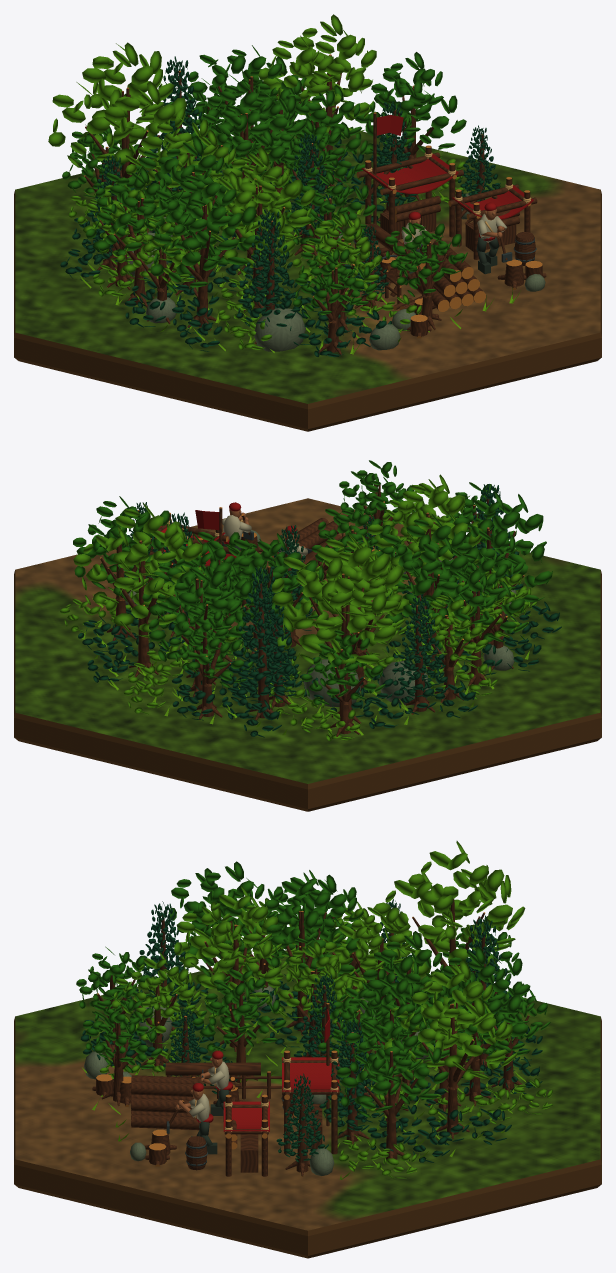
Rendered from forest-camp-lod2.fbx.
3 renders of one model, top to bottom at view 1: azimuth 30°, elevation 25°; view 2: azimuth 150°, elevation 25°; view 3: azimuth 270°, elevation 25°, orthographic.
Visible parts, largest first — view 1: LOD2_树林, LOD2_地块, LOD2_地被, LOD2_营地, LOD2_营地_玩家色, LOD2_人物; view 2: LOD2_地块, LOD2_树林, LOD2_地被, LOD2_营地, LOD2_人物, LOD2_营地_玩家色; view 3: LOD2_地块, LOD2_树林, LOD2_地被, LOD2_营地, LOD2_营地_玩家色, LOD2_人物.
Boxes of the visible parts, left/top/right/bottom form: LOD2_树林: left=48, top=14, right=500, bottom=355; LOD2_地块: left=14, top=119, right=601, bottom=431; LOD2_地被: left=60, top=138, right=545, bottom=357; LOD2_营地: left=338, top=112, right=546, bottom=338; LOD2_营地_玩家色: left=361, top=115, right=533, bottom=219; LOD2_人物: left=401, top=209, right=512, bottom=280; LOD2_地块: left=14, top=498, right=601, bottom=811; LOD2_树林: left=73, top=460, right=552, bottom=736; LOD2_地被: left=60, top=530, right=561, bottom=741; LOD2_营地: left=147, top=507, right=396, bottom=626; LOD2_人物: left=222, top=509, right=312, bottom=588; LOD2_营地_玩家色: left=151, top=510, right=236, bottom=567; LOD2_地块: left=14, top=950, right=601, bottom=1258; LOD2_树林: left=76, top=841, right=550, bottom=1176; LOD2_地被: left=80, top=971, right=552, bottom=1179; LOD2_营地: left=92, top=1003, right=339, bottom=1176; LOD2_营地_玩家色: left=223, top=1009, right=339, bottom=1131; LOD2_人物: left=165, top=1057, right=229, bottom=1154.
Bounding box in the file's own units: 7.9 × 2.75 × 6.84.
